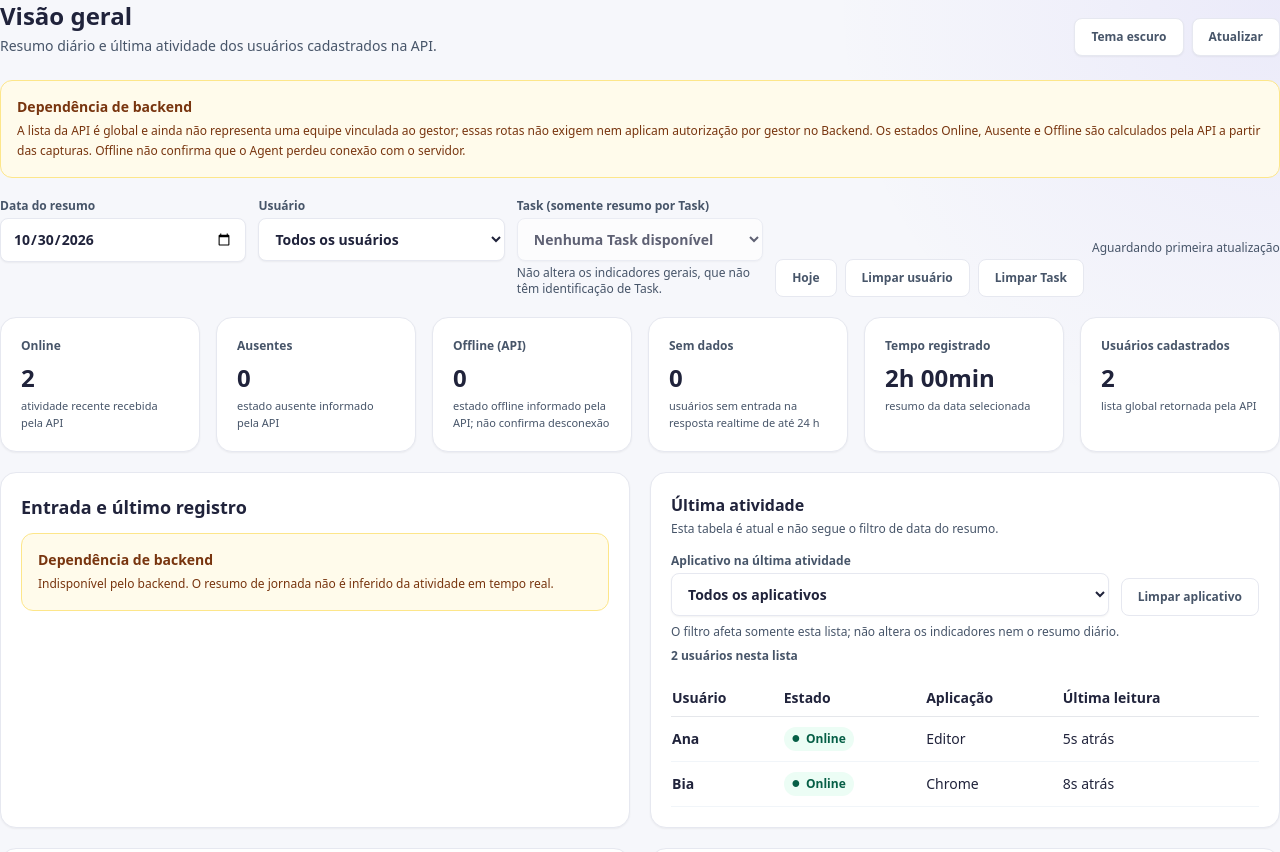
DashboardPage › combina usuário e aplicativo na última atividade sem alterar os indicadores por aplicativo
This screenshot has width=1280, height=852.
Expected: the text "Tempo registrado" shows "2h 00min", [885, 361, 995, 394]
Expected: the element named "Tabela de última atividade com rolagem horizontal" shows "Ana", [672, 729, 699, 748]
Select "Chrome" in the dropdown labelled "Aplicativo na última atividade" at (890, 594), box [671, 573, 1109, 616]
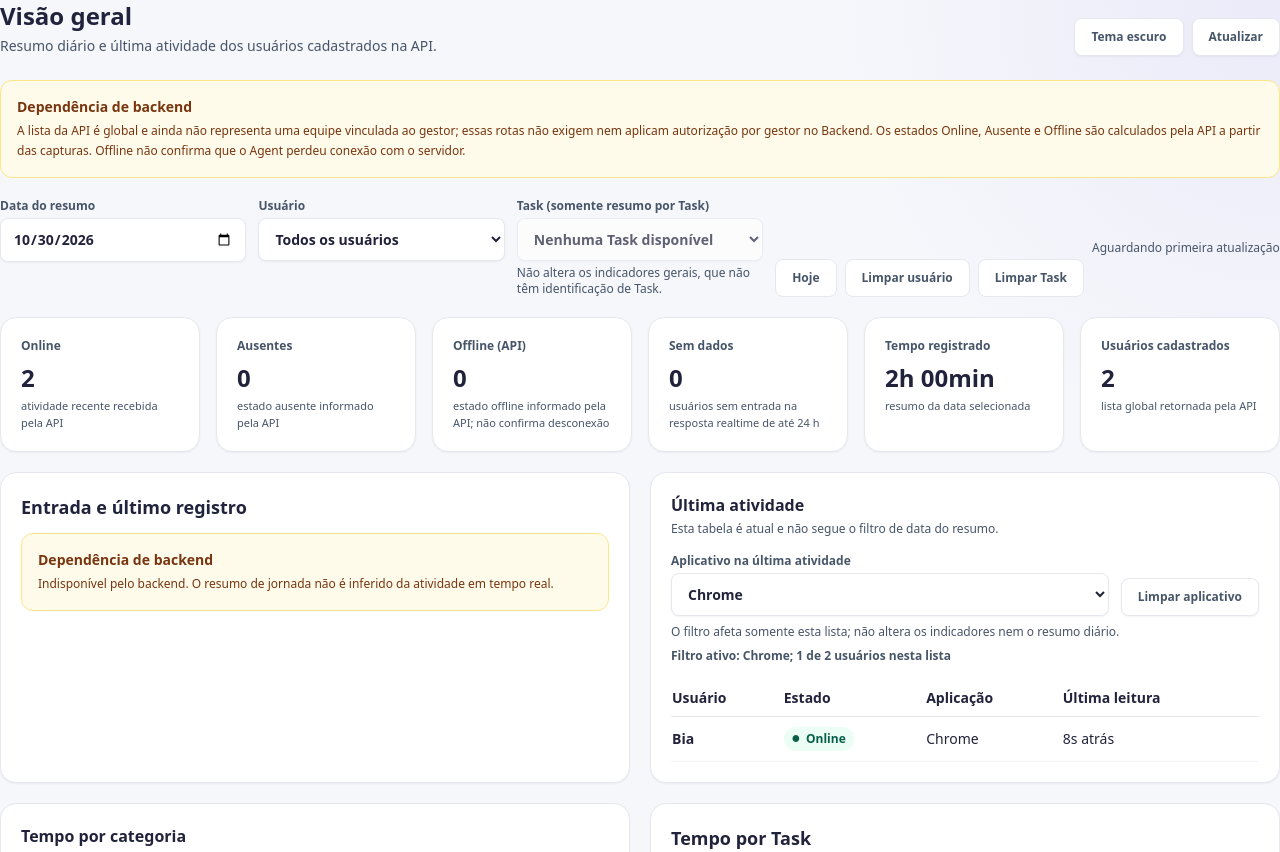
Expected: the element named "Tabela de última atividade com rolagem horizontal" shows "Bia", [672, 729, 694, 748]
Expected: the element named "Tabela de última atividade com rolagem horizontal" no longer shows "Ana", [671, 680, 1259, 762]
Select "Ana" in the dropdown labelled "Usuário" at (382, 240), box [258, 218, 505, 261]
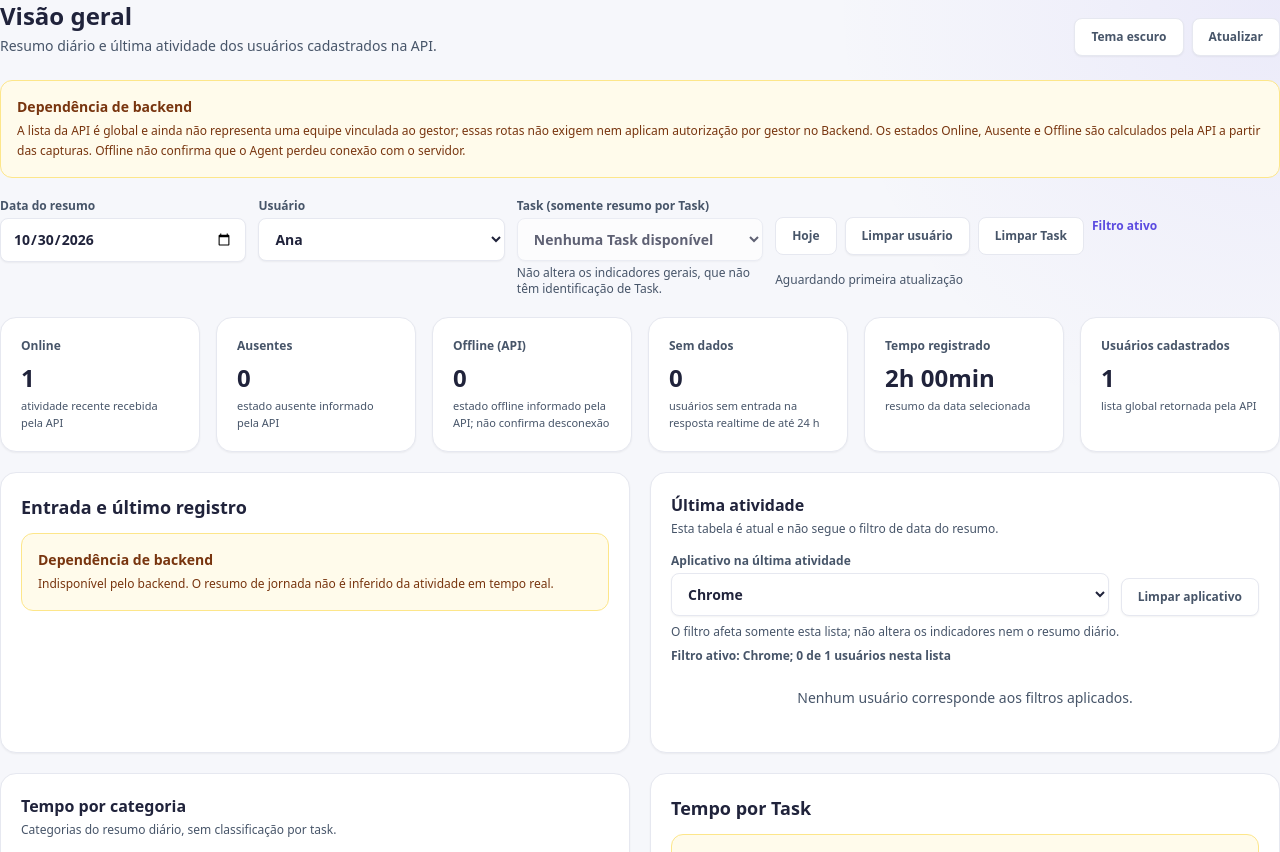
Expected: the text "Nenhum usuário corresponde aos filtros aplicados." is shown, [797, 688, 1133, 707]
Expected: the message shows "0 de 1 usuários nesta lista", [671, 647, 951, 664]
